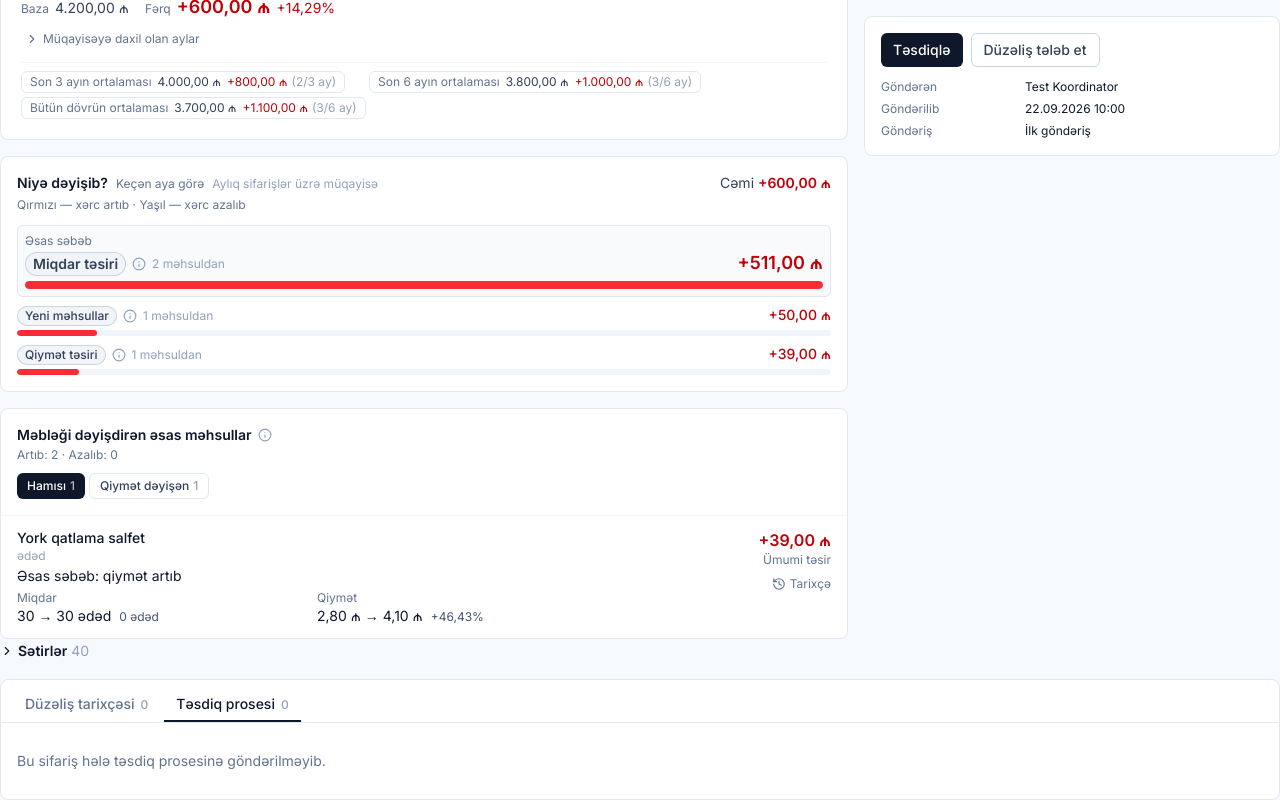
Scenario: closing the product history and the source › closes the product history on Escape, with the focus back on the product and the page where it was
(page scrolled)
Click the button "York qatlama salfet": (81, 538) top-left (1, 516), bottom-right (847, 638)
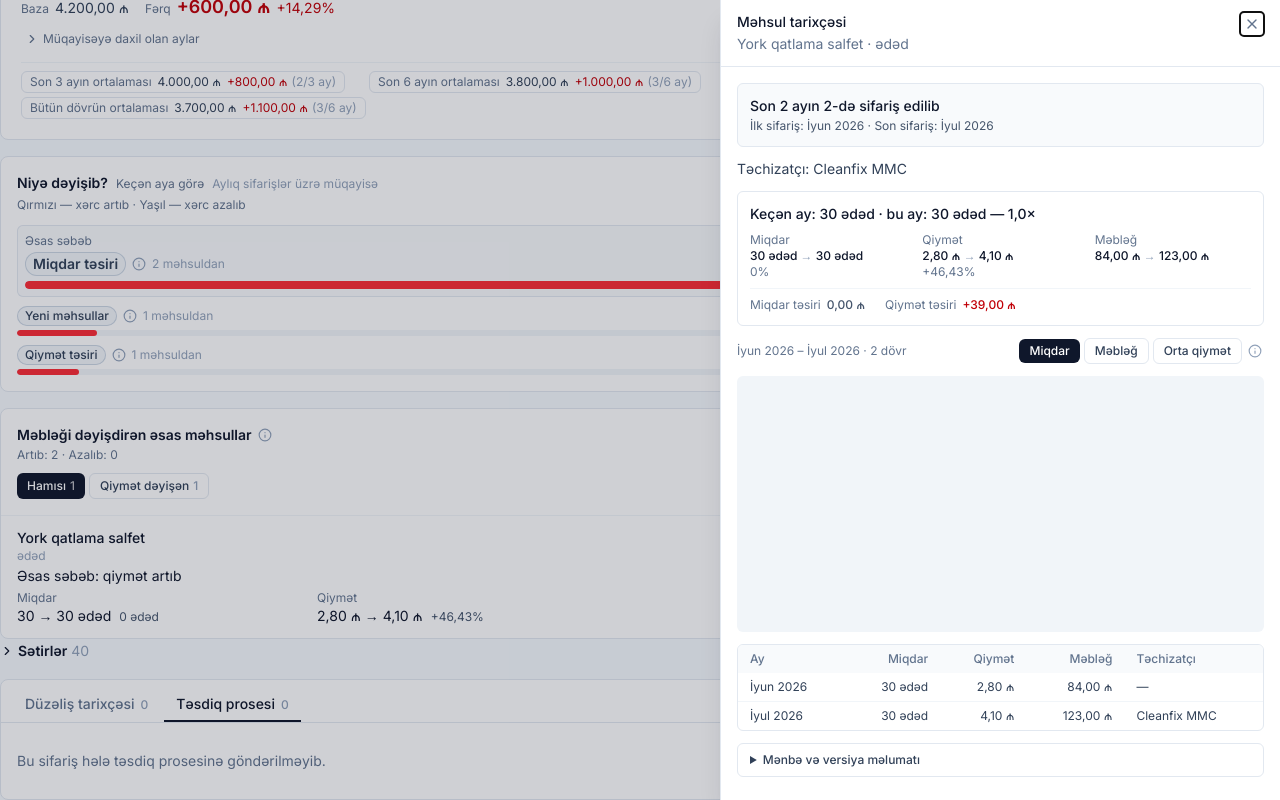
Expected: the dialog "Məhsul tarixçəsi" is shown, top-left (720, 0), bottom-right (1279, 799)
Press Escape
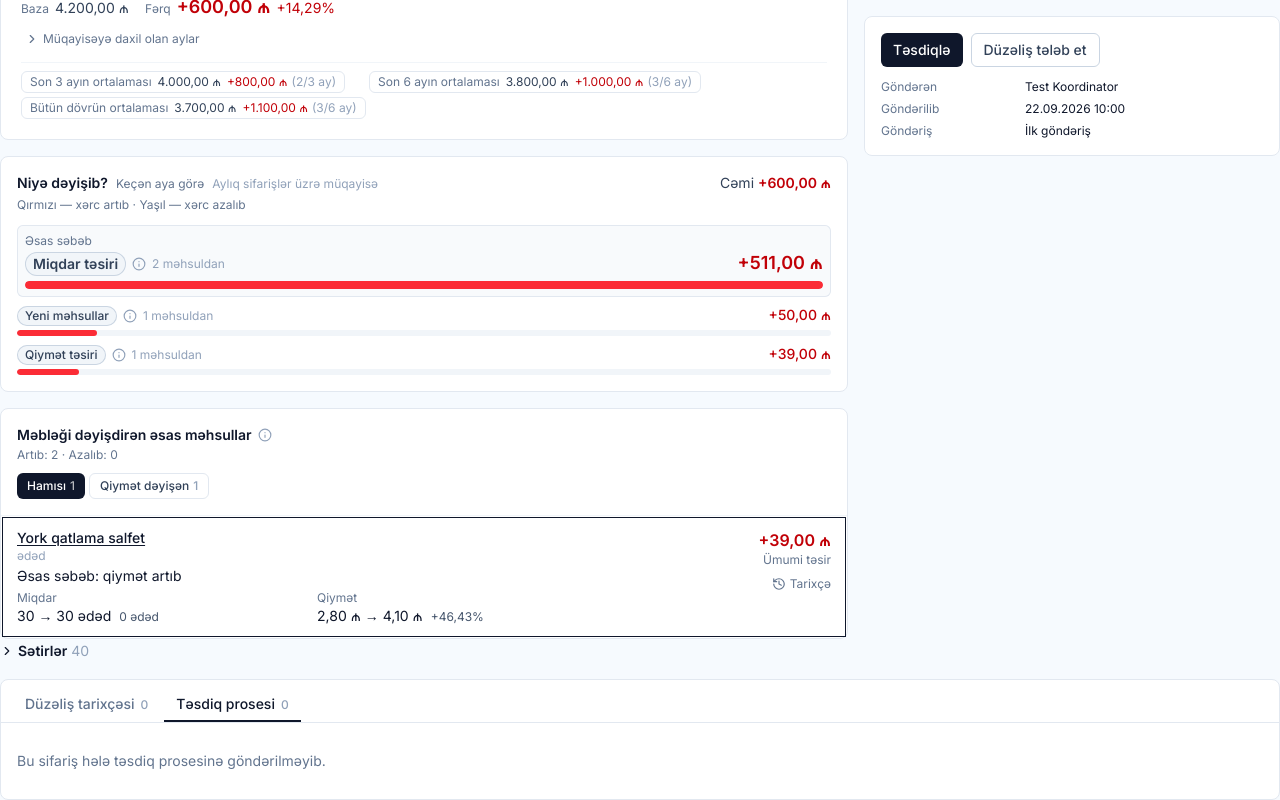
Expected: the dialog is gone
